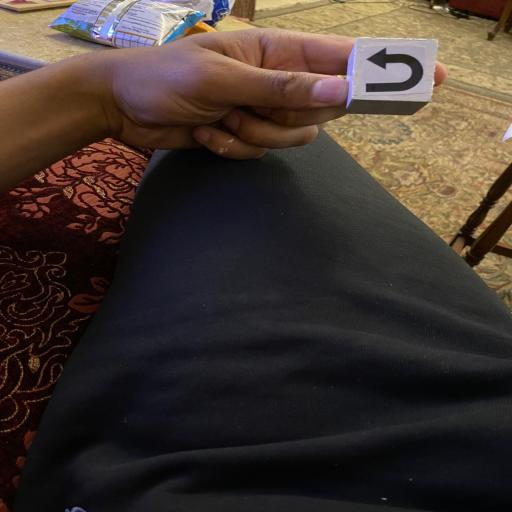Undo: (340, 35, 440, 116)
